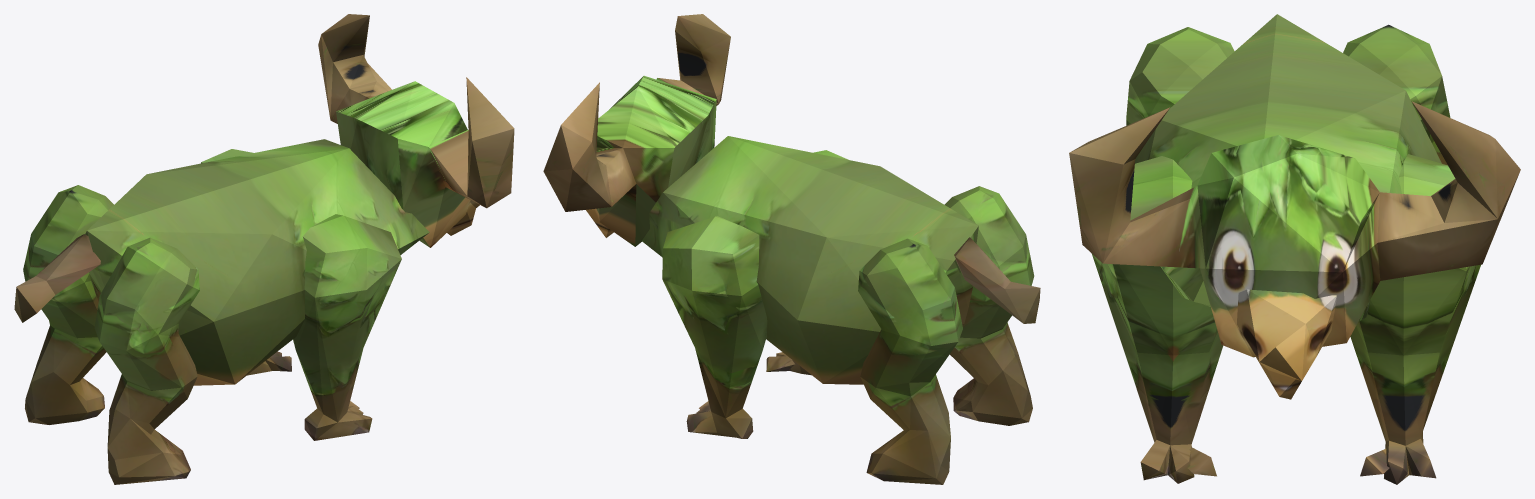
Rendered from buffalo_verdo.glb.
3 views of the same model, side by side, from view 1: azimuth 30°, elevation 25°; view 2: azimuth 150°, elevation 25°; view 3: azimuth 270°, elevation 25° (orthographic). The views are drawn at different scales.
Visible parts, largest first — view 1: corps, tete, jambe_arriere_droite, jambe_avant_droite, jambe_arriere_gauche, queue, jambe_avant_gauche; view 2: corps, tete, jambe_arriere_gauche, jambe_avant_gauche, jambe_arriere_droite, queue, jambe_avant_droite; view 3: tete, corps, jambe_avant_droite, jambe_avant_gauche, jambe_arriere_droite, jambe_arriere_gauche.
Boxes of the visible parts, x1,y1,x2,y2 form: corps: [85, 139, 429, 385]; tete: [318, 14, 514, 247]; jambe_arriere_droite: [94, 237, 199, 484]; jambe_avant_droite: [293, 214, 401, 440]; jambe_arriere_gauche: [23, 185, 113, 424]; queue: [14, 234, 100, 322]; jambe_avant_gauche: [201, 149, 291, 375]; corps: [642, 136, 978, 384]; tete: [543, 14, 730, 246]; jambe_arriere_gauche: [858, 238, 962, 484]; jambe_avant_gauche: [662, 216, 767, 438]; jambe_arriere_droite: [944, 186, 1034, 425]; queue: [954, 237, 1040, 323]; jambe_avant_droite: [766, 150, 848, 375]; tete: [1069, 101, 1520, 399]; corps: [1135, 14, 1441, 321]; jambe_avant_droite: [1091, 156, 1223, 483]; jambe_avant_gauche: [1350, 154, 1480, 484]; jambe_arriere_droite: [1126, 27, 1234, 125]; jambe_arriere_gauche: [1343, 24, 1450, 165].
Bounding box in the file's own units: 3.08 × 2.03 × 1.85.
Materials: 7 (7 with a texture image).
